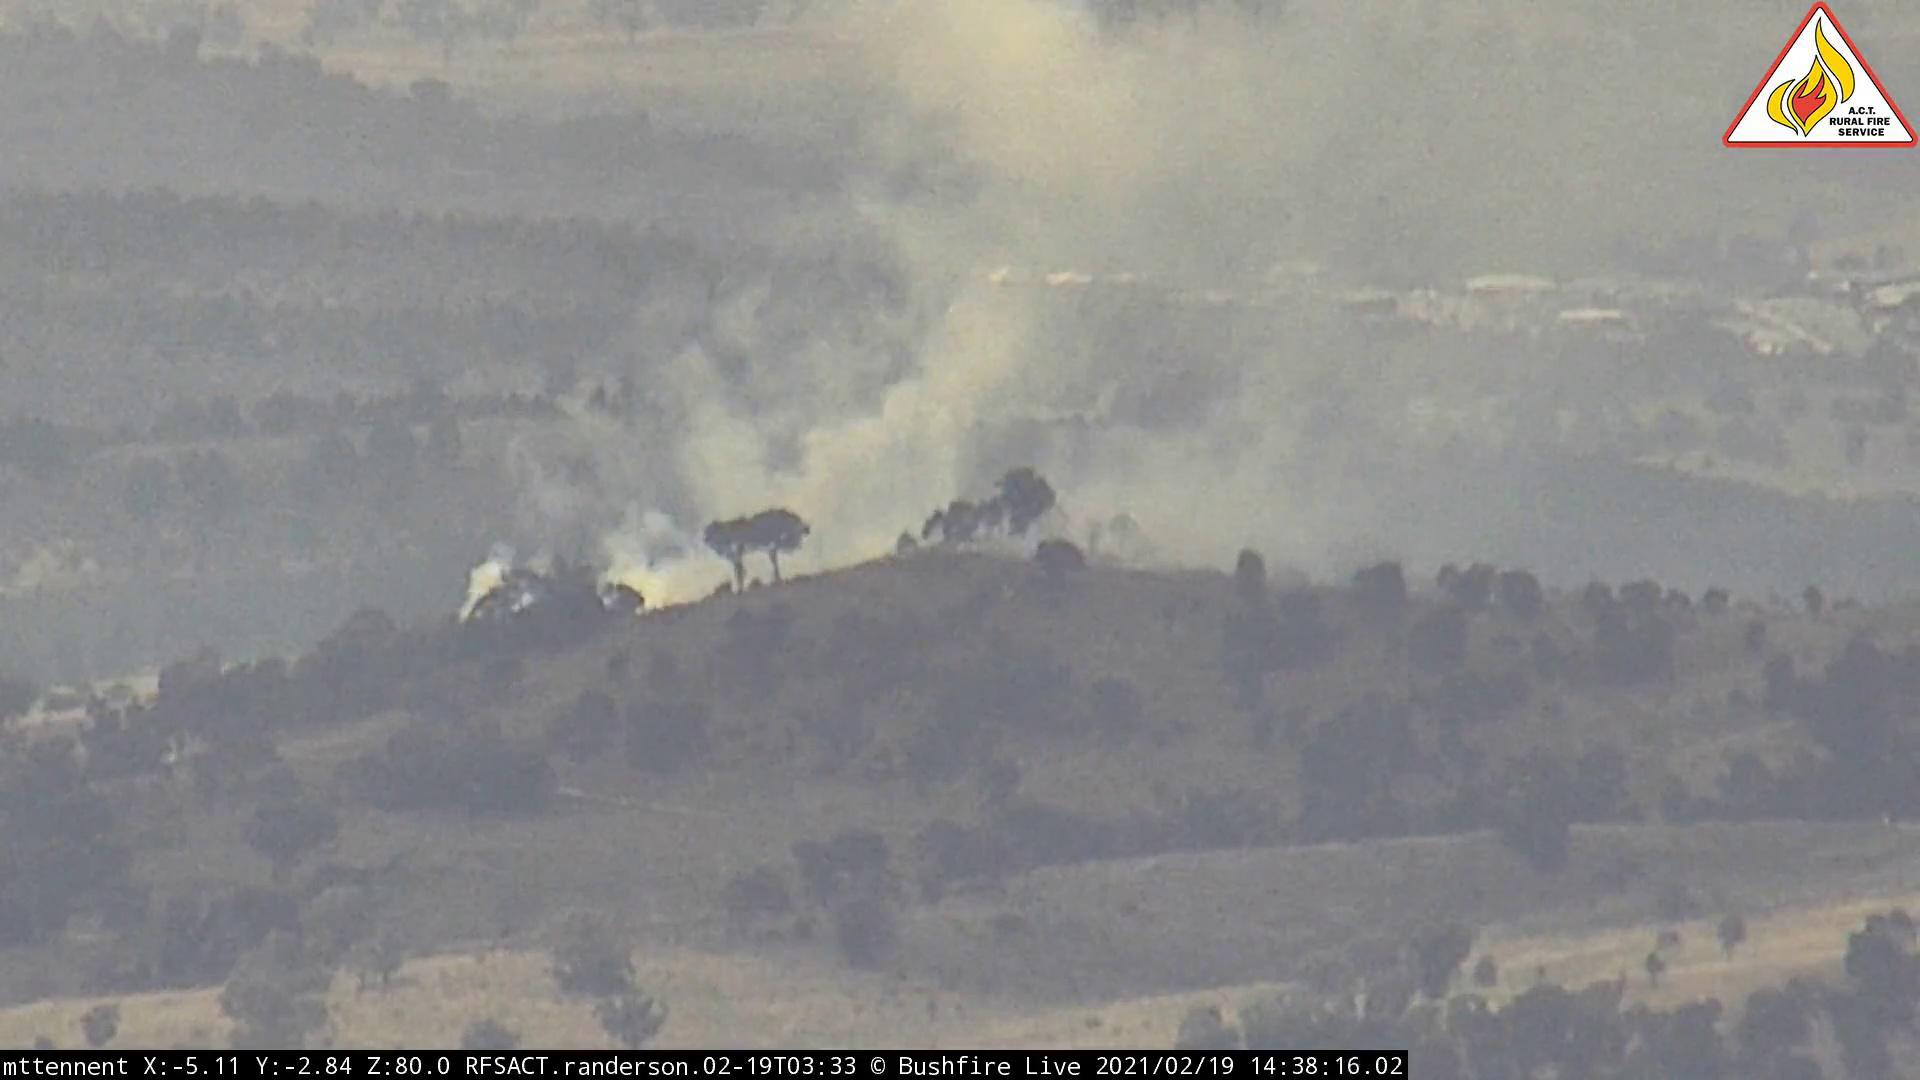Smoke: (411, 7, 1553, 644)
